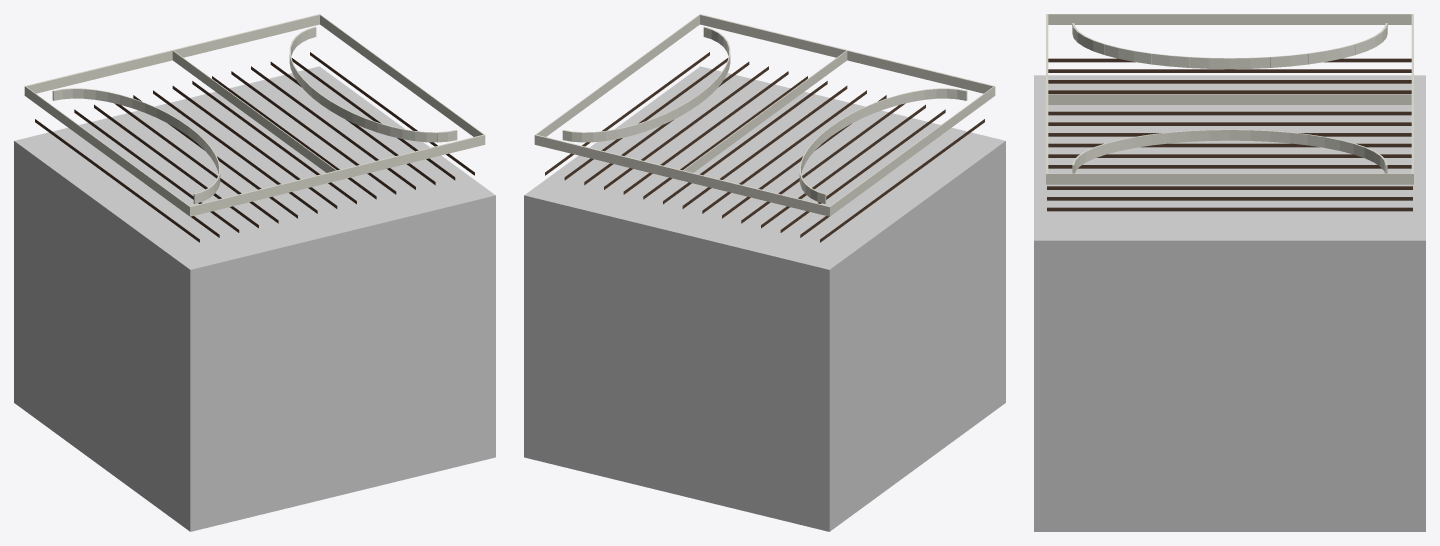
Rendered from court.glb.
3 views of the same model, side by side, from view 1: azimuth 30°, elevation 25°; view 2: azimuth 150°, elevation 25°; view 3: azimuth 270°, elevation 25° (orthographic). The views are drawn at different scales.
Parts seen in each view (by area): view 1: beret/surface; view 2: beret/surface; view 3: beret/surface.
Boxes of the visible parts, x1=… form: beret/surface: x1=14, y1=14, x2=495, y2=531; beret/surface: x1=524, y1=14, x2=1005, y2=531; beret/surface: x1=1034, y1=14, x2=1425, y2=531.
Size of the model in its own units: 1 by 1 by 1.
